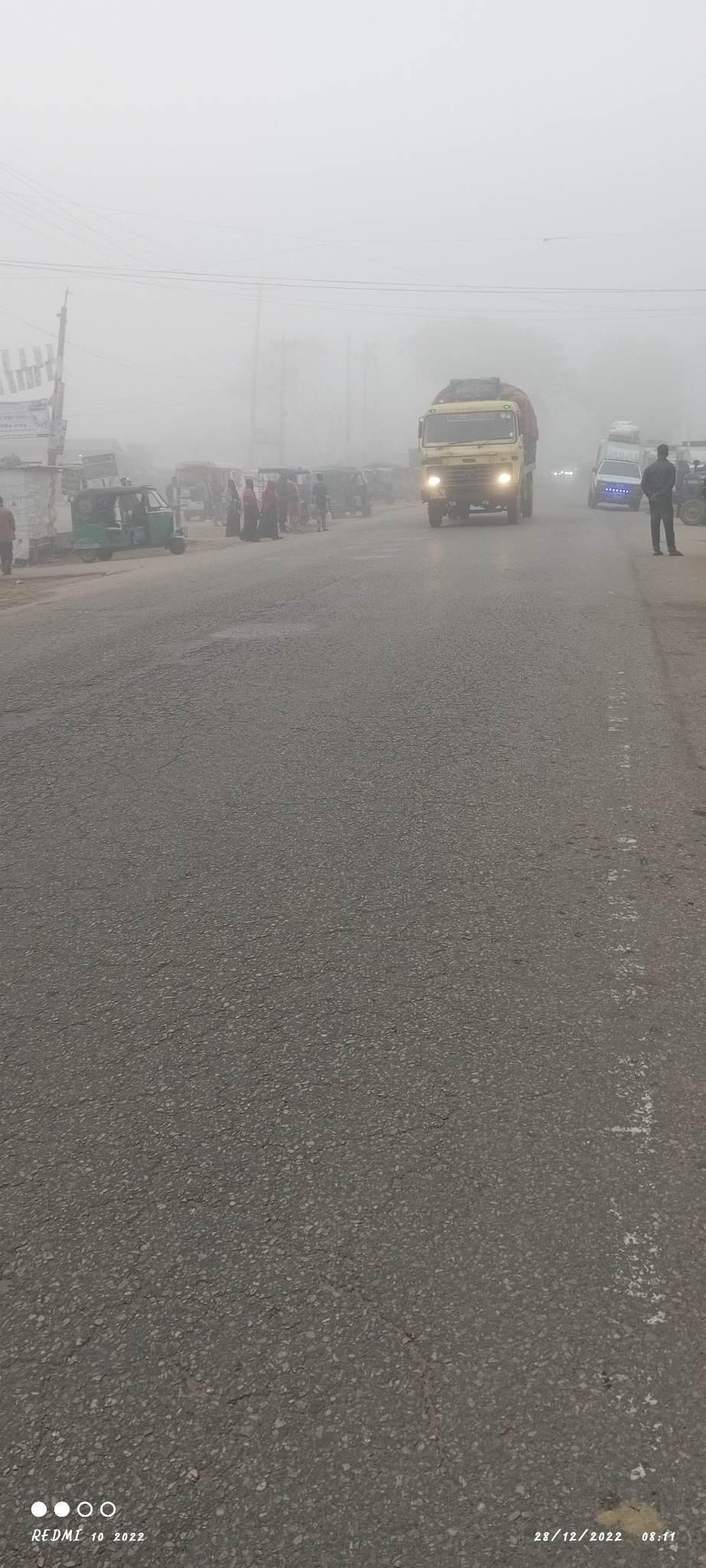Car: (582, 422, 660, 544)
Truck: (389, 373, 548, 547)
